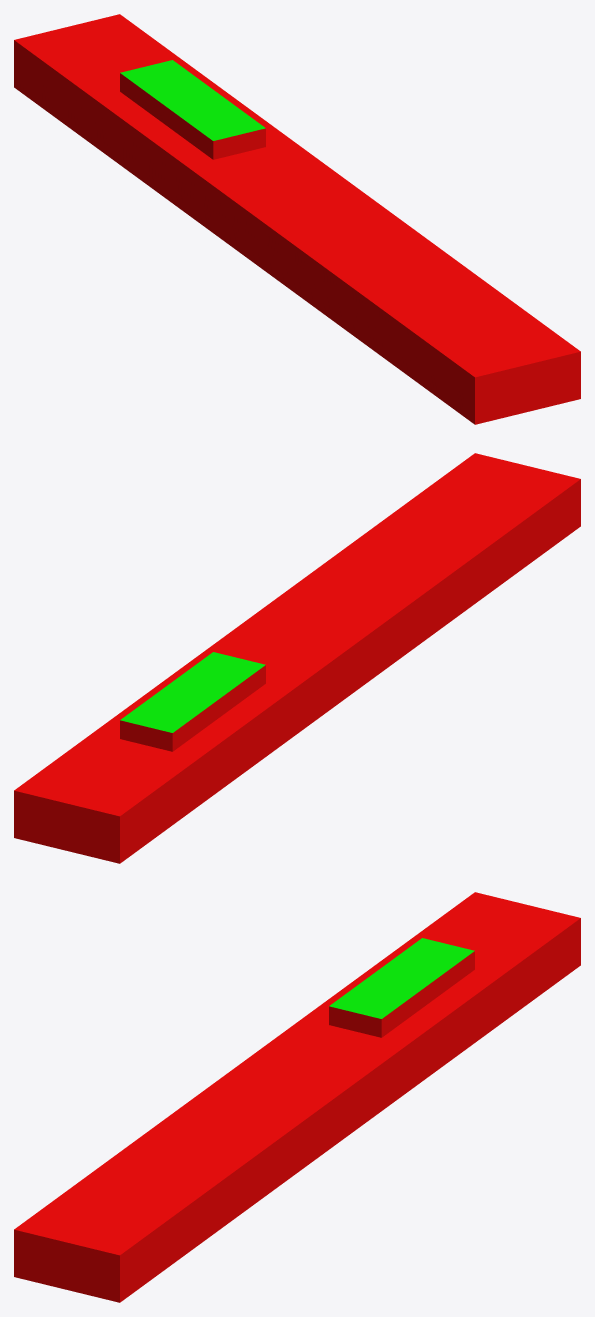
The model's file is labeled.obj.
3 views of the same model, one above another, from view 1: azimuth 30°, elevation 25°; view 2: azimuth 150°, elevation 25°; view 3: azimuth 330°, elevation 25° (orthographic).
Size of the model in its own units: 0.0196 by 0.0117 by 0.1475.
